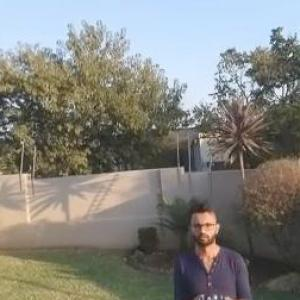follow: (168, 195, 255, 299)
